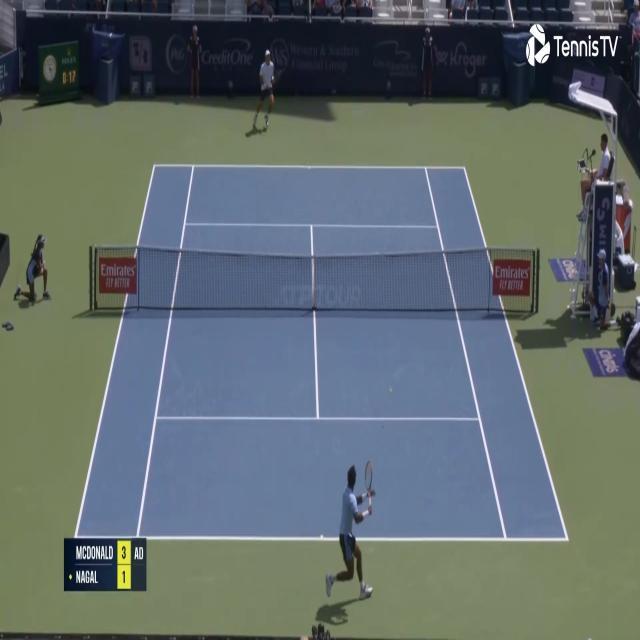tennis-player: (324, 457, 377, 608), (252, 44, 277, 133)
